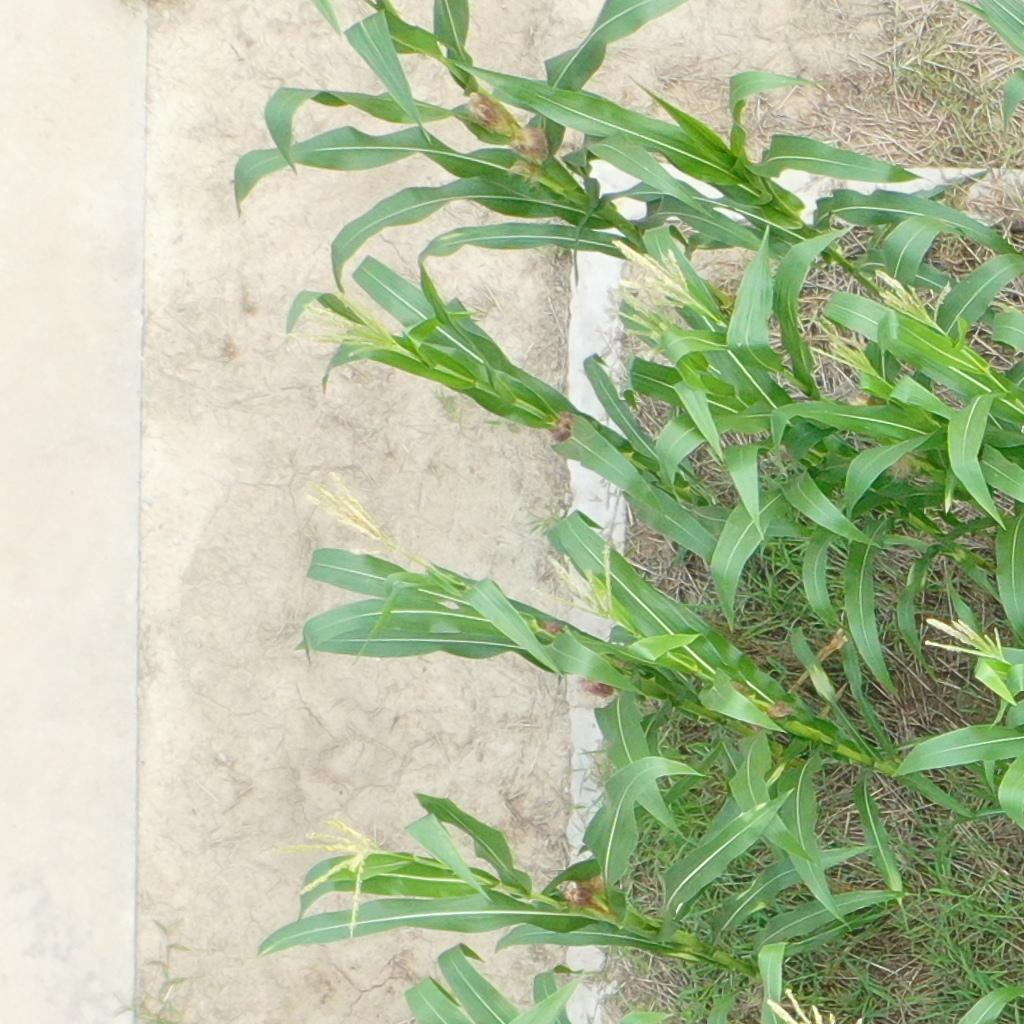Tassel: (274, 816, 389, 942), (276, 291, 412, 364), (300, 470, 388, 543), (610, 234, 699, 306), (538, 545, 623, 620), (918, 611, 1016, 666), (805, 314, 880, 378), (874, 269, 952, 323), (767, 990, 867, 1024), (605, 286, 666, 337)
